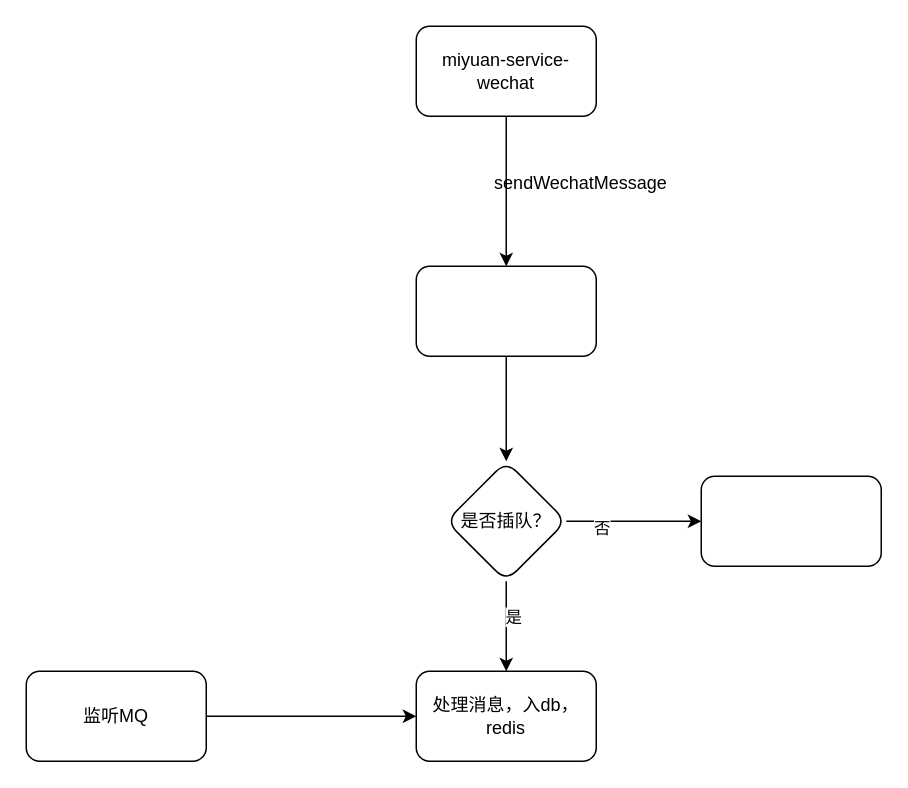
Image size: 908x788. Some labels were removed from this diagram. Each missing label, with the centre of its shape:
"miyuan-wechat-service-push" belongs at (505,310).
"根据wechatId分队列顺序，放入MQ" belongs at (790,520).
